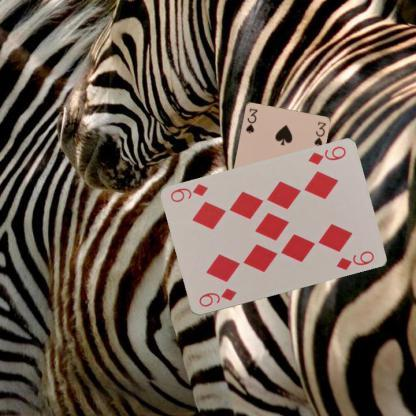3s: (244, 106, 258, 134)
9d: (196, 286, 238, 308), (305, 144, 347, 166)
